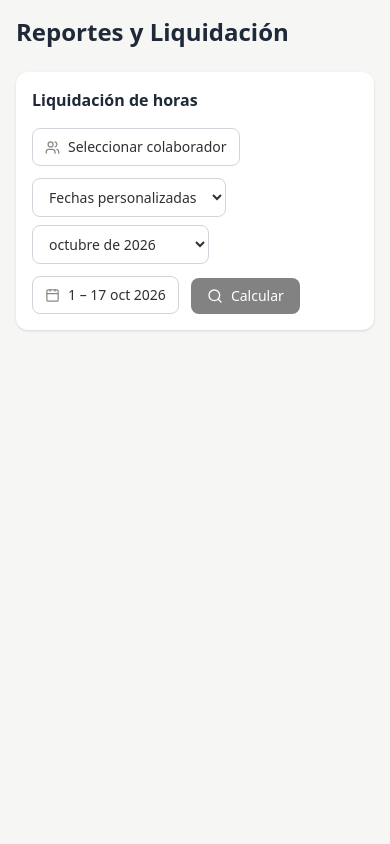
Test: el total trabajado y el cruce de las extras en el reporte por persona › «Trabajó» muestra el total, con las extras, y dice de qué se compone
Click the button "Seleccionar colaborador" at (136, 147), box [32,128,240,166]
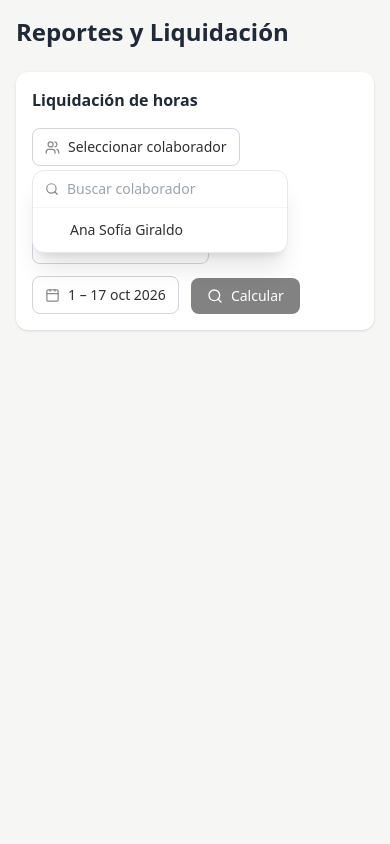
Click the button "Ana Sofía Giraldo" at (160, 230), box [33,212,287,248]
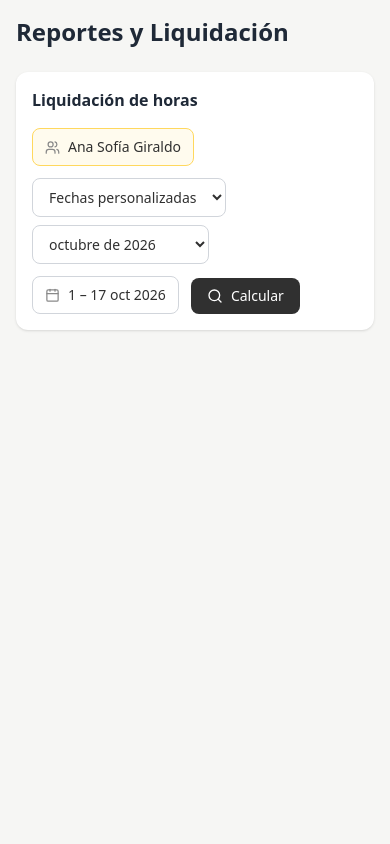
Click the button "Calcular" at (245, 296), box [191,278,300,314]
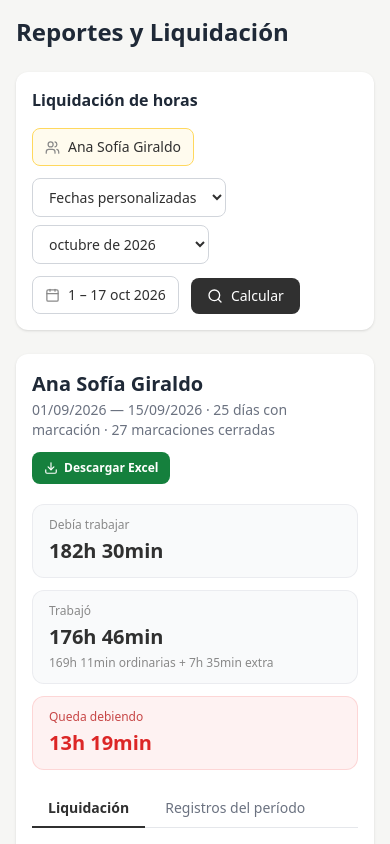
Check: the heading "Ana Sofía Giraldo" is shown, box [32,370,203,397]
